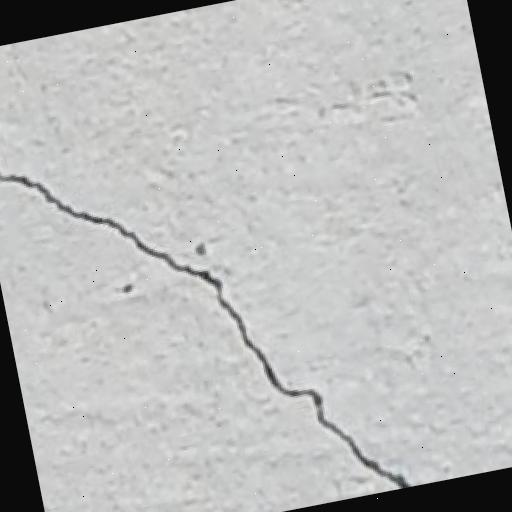spalling: (0, 126, 417, 489)
